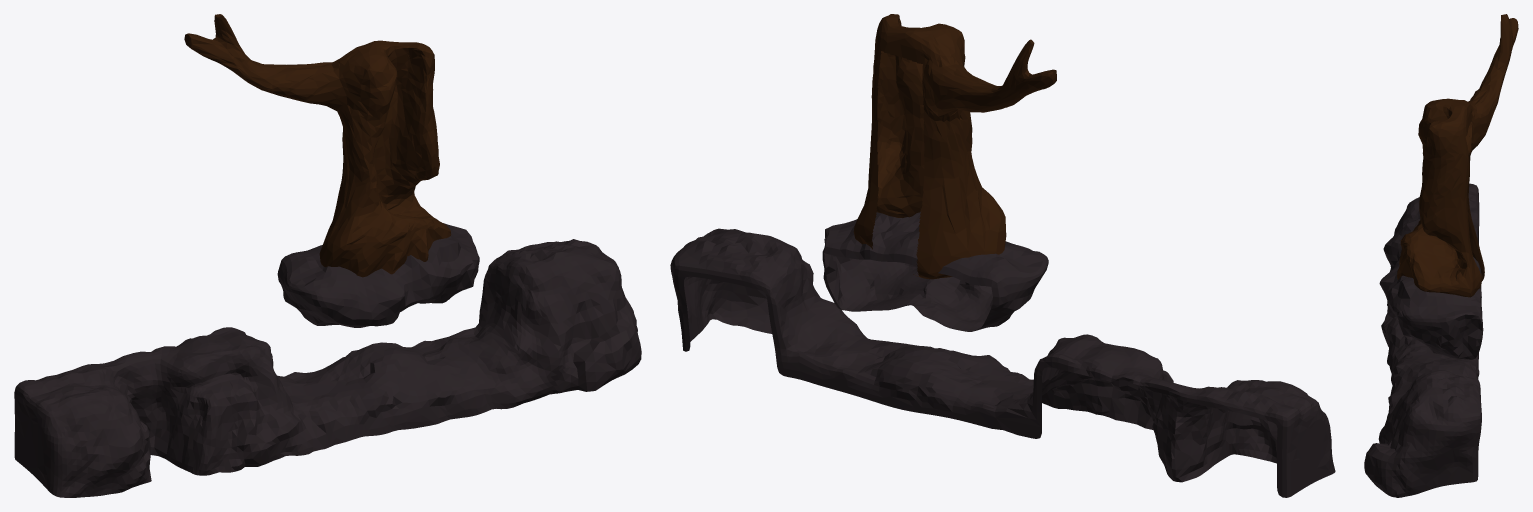
Rendered from Terrain_1.fbx.
3 views of the same model, side by side, from view 1: azimuth 30°, elevation 25°; view 2: azimuth 150°, elevation 25°; view 3: azimuth 270°, elevation 25° (orthographic). The views are drawn at different scales.
Parts seen in each view (by area): view 1: Terrain_1, Tree.001; view 2: Terrain_1, Tree.001; view 3: Terrain_1, Tree.001.
Boxes of the visible parts, x1,y1,x2,y2 form: Terrain_1: [14, 223, 641, 497]; Tree.001: [184, 14, 451, 277]; Terrain_1: [670, 212, 1335, 497]; Tree.001: [853, 14, 1056, 279]; Terrain_1: [1364, 183, 1483, 497]; Tree.001: [1397, 14, 1518, 297].
Size of what is drawn, in the model's own units: 6362 by 4152 by 1693.
